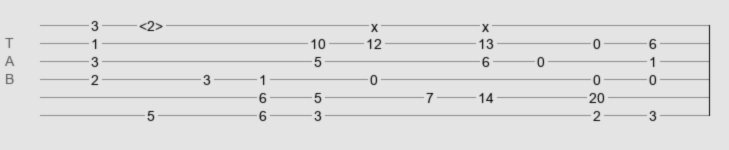0: (370, 72, 378, 82), (537, 54, 545, 64), (593, 72, 601, 82), (593, 36, 601, 46), (649, 72, 657, 82)
1: (91, 36, 99, 46), (259, 72, 267, 82), (649, 54, 657, 64)
10: (310, 36, 326, 46)
12: (366, 36, 382, 46)
13: (478, 36, 494, 46)
14: (478, 90, 494, 100)
2: (91, 72, 99, 82), (593, 108, 601, 118)
20: (589, 90, 605, 100)
3: (91, 18, 99, 28), (91, 54, 99, 64), (203, 72, 211, 82), (314, 108, 322, 118), (649, 108, 657, 118)
5: (147, 108, 155, 118), (314, 54, 322, 64), (314, 90, 322, 100)
6: (259, 108, 267, 118), (259, 90, 267, 100), (482, 54, 490, 64), (649, 36, 657, 46)
7: (426, 90, 434, 100)
harmonic: (139, 18, 163, 28)
x: (371, 19, 378, 27), (482, 19, 489, 27)
